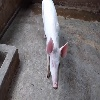heo: (43, 35, 71, 92)
